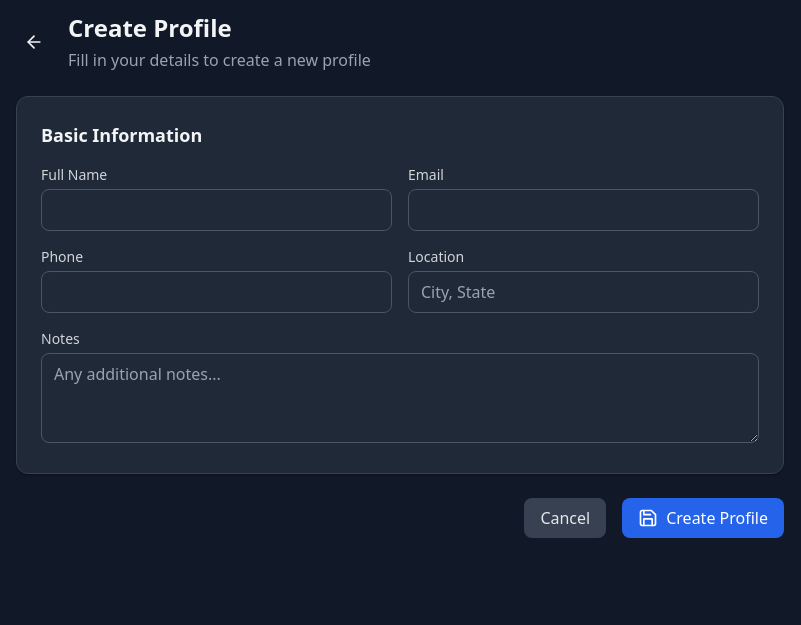
Scenario: ProfileFormPage - Create Mode › shows error message on failed create
The width and height of the screenshot is (801, 625).
Type "Test" into the field below "Full Name".
click(216, 210); type("Test")  # box [41,189,392,231]
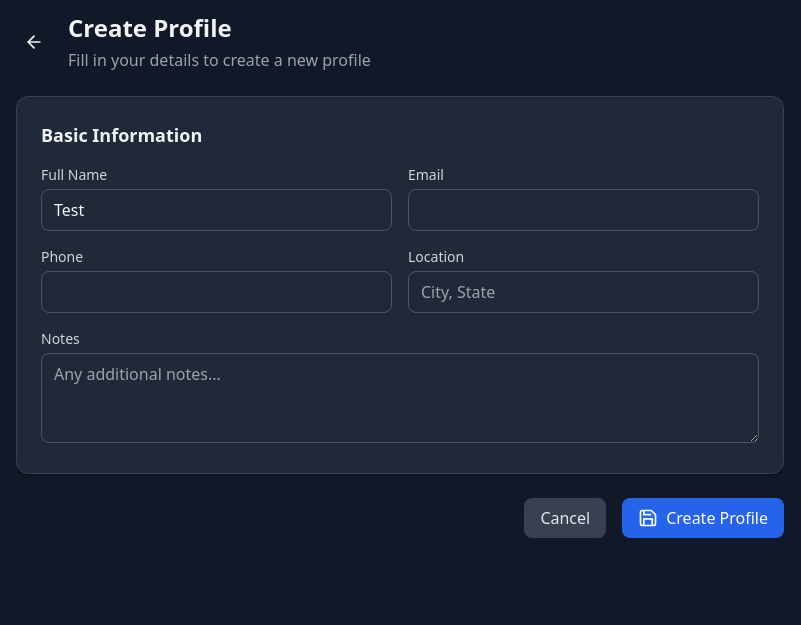
Submit the form
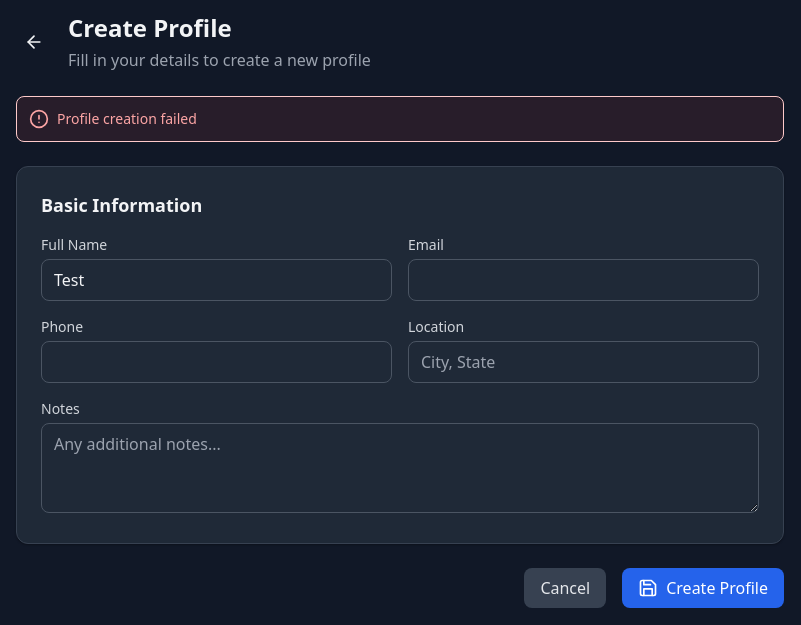
expect the text "Profile creation failed" is shown: met, box [57,109,197,129]
